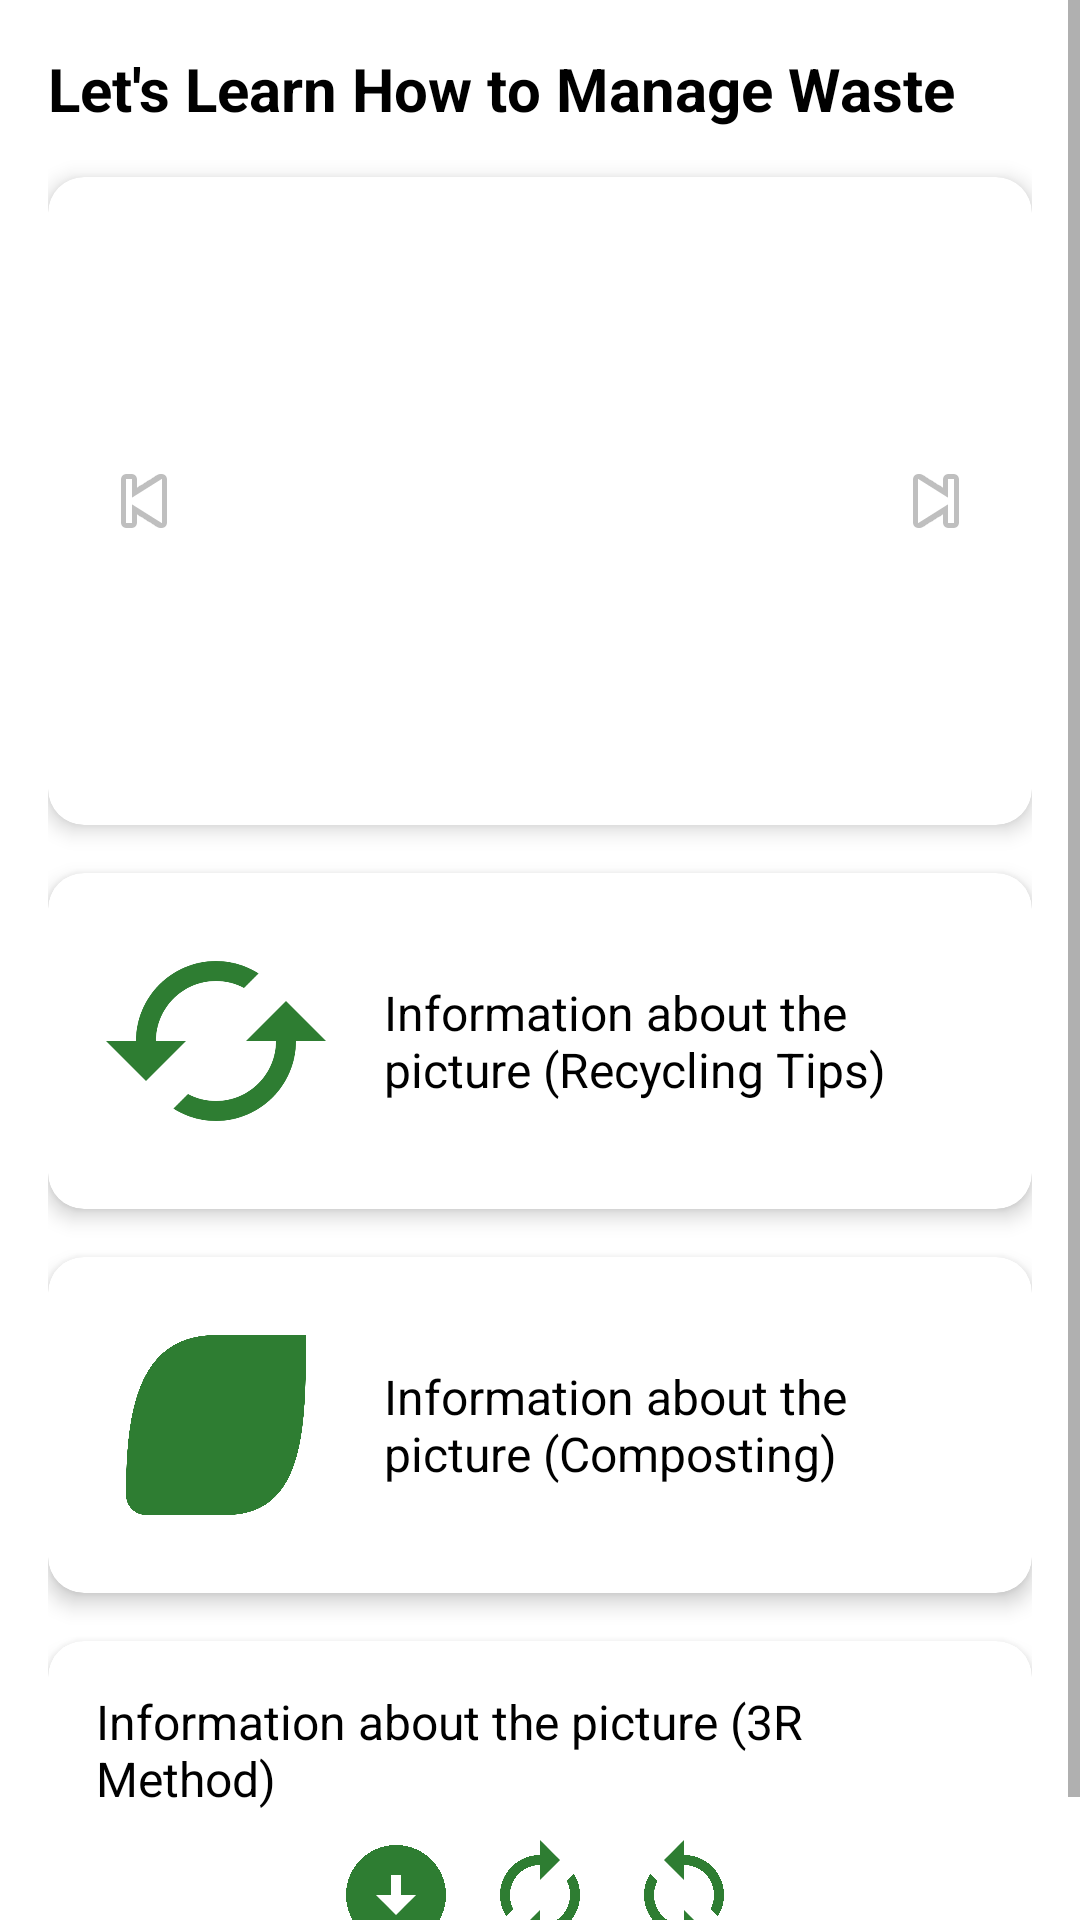

Named icons in this screenshot (1080 × 1920) and their centers, [x,y]:
Next Video: [936,501]
Previous Video: [144,501]
